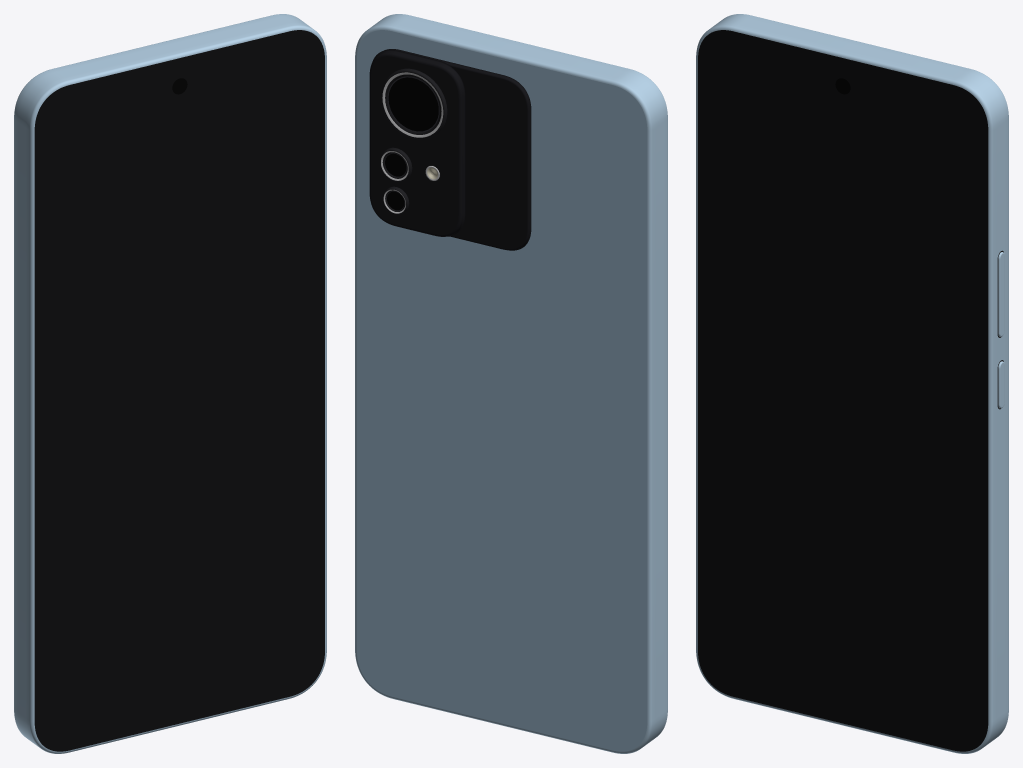
Rendered from redmi-note-12s.glb.
3 renders of one model, left to right at view 1: azimuth 30°, elevation 25°; view 2: azimuth 150°, elevation 25°; view 3: azimuth 330°, elevation 25°, orthographic.
Parts seen in each view (by area): view 1: body; view 2: body, camera; view 3: body, buttons.
Part boxes in pixels (x1,y1,x2,y2): body: [14, 14, 326, 753]; body: [355, 14, 667, 753]; camera: [369, 49, 531, 250]; body: [696, 14, 1008, 753]; buttons: [997, 250, 1004, 409].
Bounding box in the file's own units: 74.3 × 160 × 11.17.
